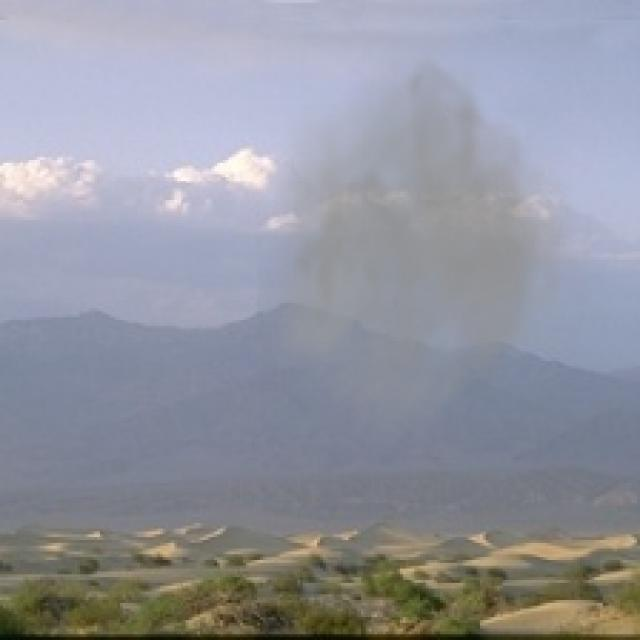Smoke: (257, 37, 606, 460)
